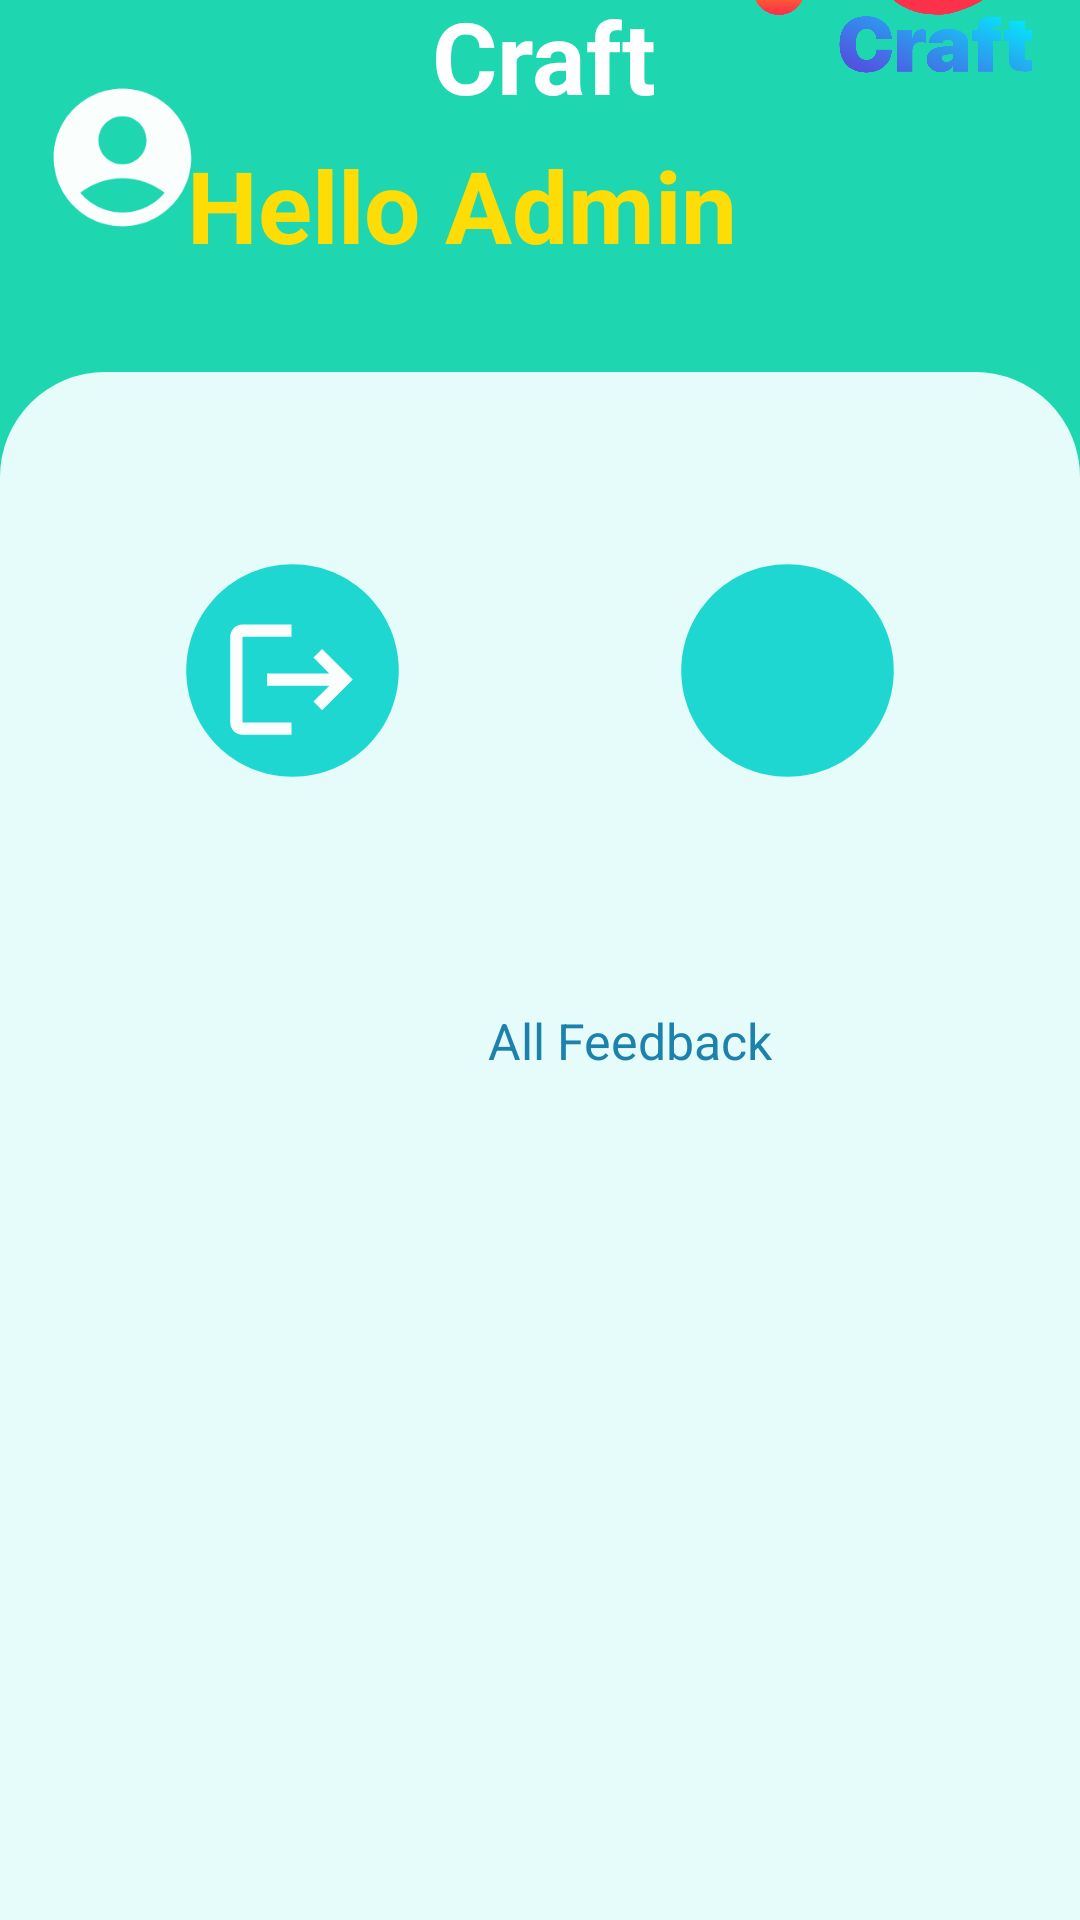

Icon click points for this 1080px x 1920px phone screenshot, format (x,y):
user profile: (122,157)
